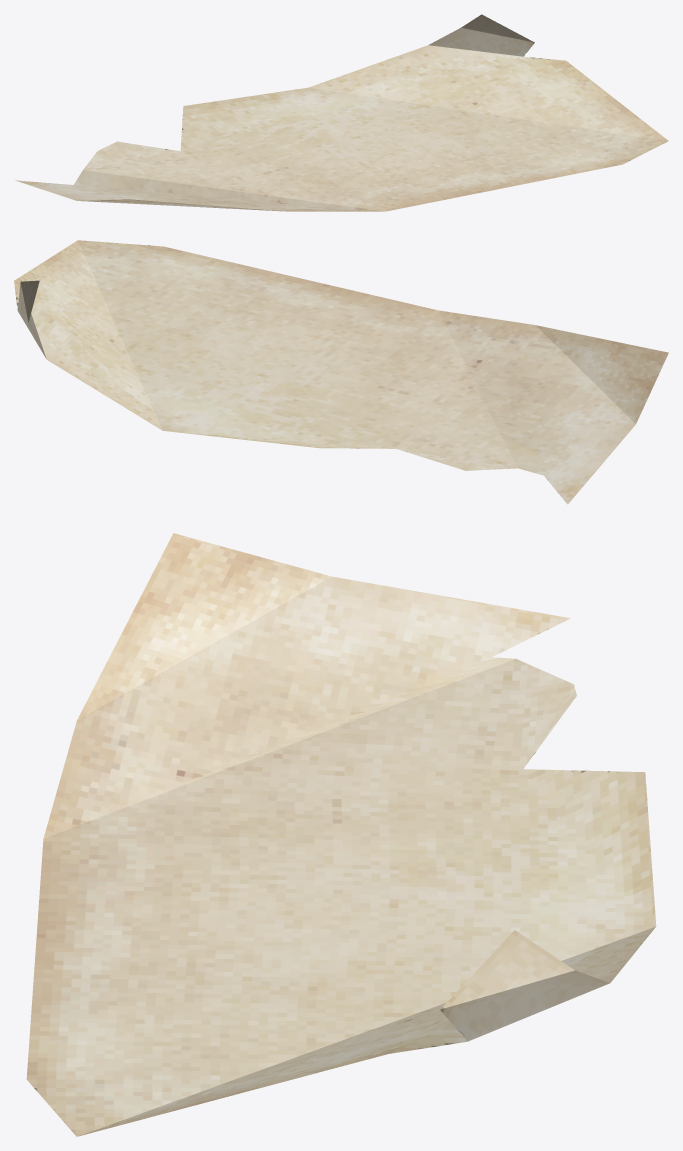
File: Hoja_Amenaza.fbx
The picture shows the model from 3 angles, top to bottom: view 1: azimuth 30°, elevation 25°; view 2: azimuth 150°, elevation 25°; view 3: azimuth 270°, elevation 25°; orthographic projection. The views are drawn at different scales.
Parts seen in each view (by area): view 1: Plane.001; view 2: Plane.001; view 3: Plane.001.
Part boxes in pixels (bbox=[...]): Plane.001: bbox=[15, 14, 668, 211]; Plane.001: bbox=[14, 240, 668, 504]; Plane.001: bbox=[26, 533, 656, 1136].
Bounding box in the file's own units: 173 × 20.45 × 88.98.
Materials: 1 (1 with a texture image).
